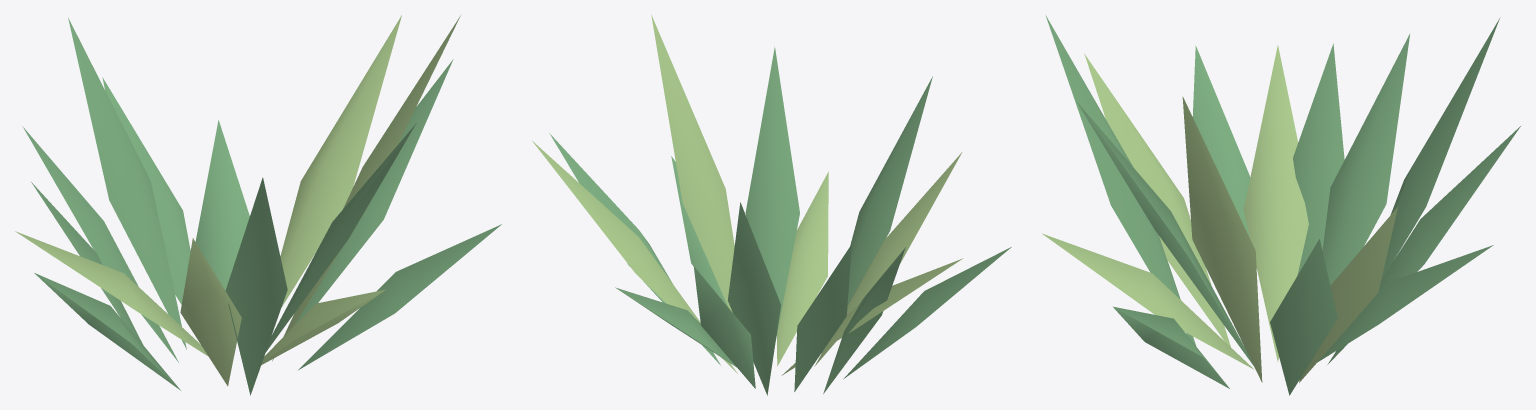
File: plant-grass-clean.glb
3 views of the same model, side by side, from view 1: azimuth 30°, elevation 25°; view 2: azimuth 150°, elevation 25°; view 3: azimuth 270°, elevation 25° (orthographic). The views are drawn at different scales.
Parts seen in each view (by area): view 1: plant-grass-kit-clean-green, plant-grass-kit-clean-leaf; view 2: plant-grass-kit-clean-green, plant-grass-kit-clean-leaf; view 3: plant-grass-kit-clean-green, plant-grass-kit-clean-leaf.
Boxes of the visible parts, <box> form: plant-grass-kit-clean-green: <box>22,17,501,395</box>; plant-grass-kit-clean-leaf: <box>15,14,461,386</box>; plant-grass-kit-clean-green: <box>549,47,1011,395</box>; plant-grass-kit-clean-leaf: <box>532,15,963,375</box>; plant-grass-kit-clean-green: <box>1045,15,1520,395</box>; plant-grass-kit-clean-leaf: <box>1042,45,1397,382</box>.
Bounding box in the file's own units: 1.23 × 0.8332 × 0.9818.
